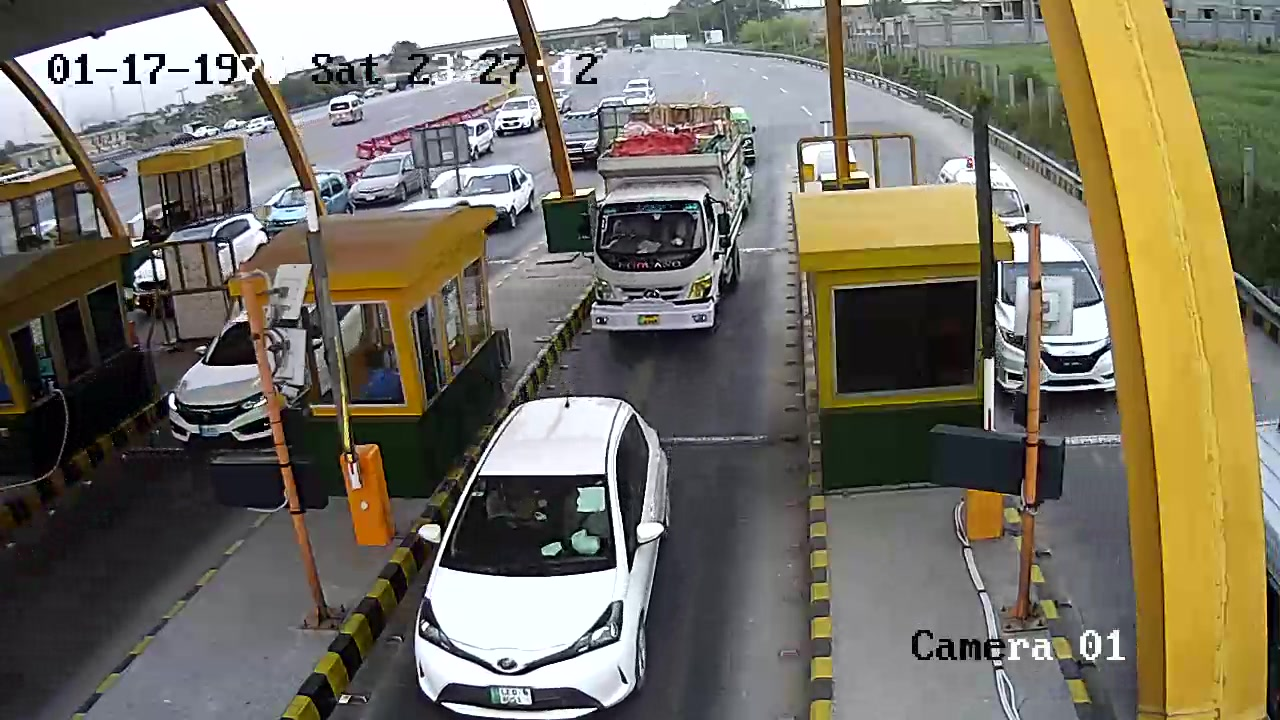F1: (396, 390, 696, 718)
F5: (577, 102, 757, 339)
